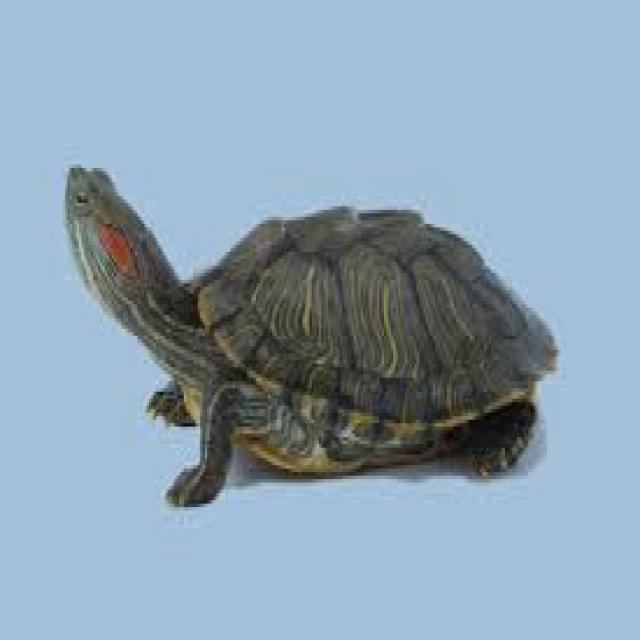turtle: (67, 168, 559, 504)
